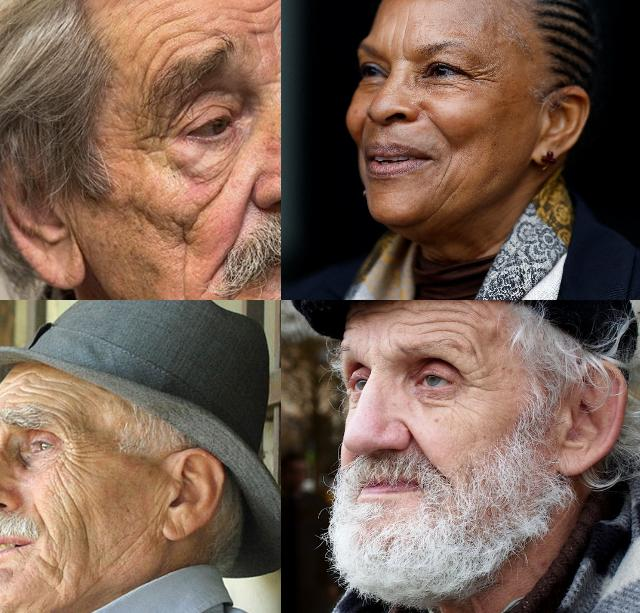crows_feet: (138, 121, 178, 163), (468, 62, 502, 92), (56, 434, 86, 468), (460, 367, 482, 401)
forehead: (142, 30, 178, 70), (428, 302, 466, 338), (231, 0, 279, 24), (141, 0, 187, 22), (360, 306, 422, 322), (34, 382, 70, 400), (44, 406, 76, 426), (18, 368, 46, 382), (12, 387, 32, 403), (194, 0, 227, 6)
frown_line: (391, 23, 407, 63), (257, 68, 281, 92), (382, 330, 398, 352)
gummy_smile: (229, 187, 255, 248), (424, 112, 454, 148), (200, 253, 228, 286), (407, 430, 433, 465), (31, 504, 51, 534)
masseter: (435, 158, 461, 214), (193, 179, 229, 219), (56, 479, 86, 521), (169, 214, 199, 252), (116, 534, 144, 566), (48, 550, 70, 588), (75, 522, 98, 556)
